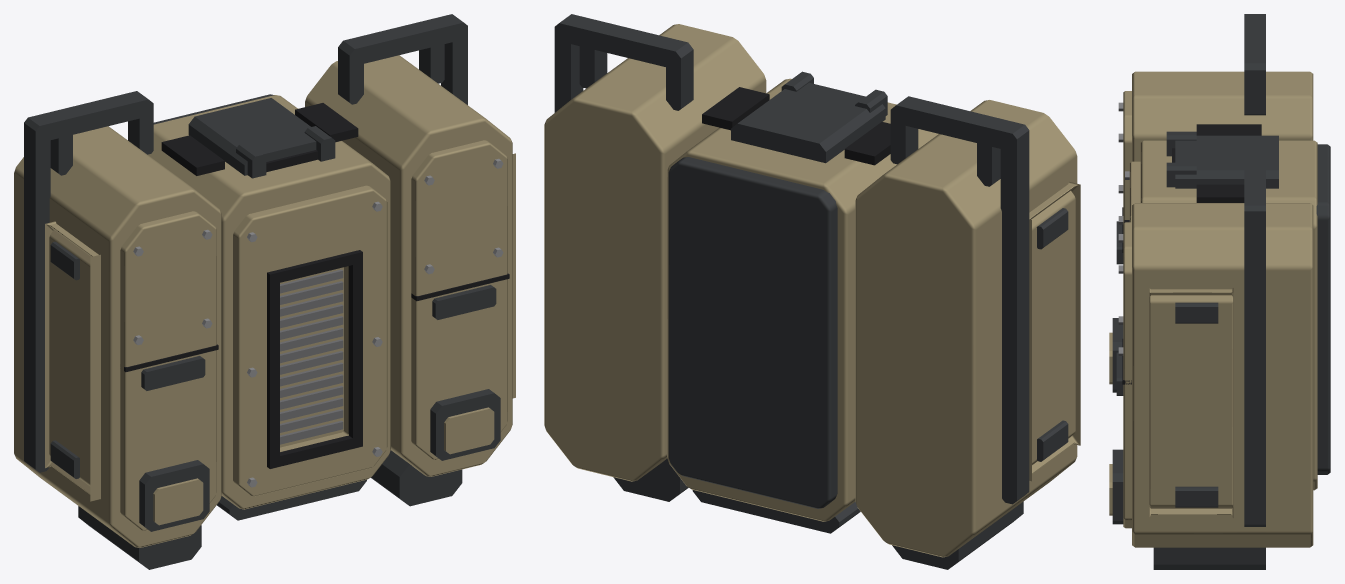
Rendered from backpack_field.glb.
The picture shows the model from 3 angles, left to right: view 1: azimuth 30°, elevation 25°; view 2: azimuth 150°, elevation 25°; view 3: azimuth 270°, elevation 25°; orthographic projection. The views are drawn at different scales.
Visible parts, largest first — view 1: BoxPanel, PodL, PodPanelL, PodPanelR, PodR, Box, SidePlateL, HandleSideL, Latch, HandleBarR, HandleBarL, FootR (+38 smaller); view 2: PodL, MountPlate, PodR, Box, SidePlateL, HandleSideL, Latch, HandleBarR, HandleBarL, HandleSideR, Skid, FootL (+9 smaller); view 3: PodR, SidePlateR, PodL, HandleSideR, Box, MountPlate, Latch, PodPanelR, FootR, HandleBarL, HandleBarR, PodPanelL (+11 smaller).
Part boxes in pixels (bbox=[...]): BoxPanel: bbox=[233, 185, 387, 496]; PodL: bbox=[14, 126, 221, 547]; PodPanelL: bbox=[120, 211, 216, 530]; PodPanelR: bbox=[411, 140, 507, 459]; PodR: bbox=[305, 55, 512, 476]; Box: bbox=[148, 95, 390, 509]; SidePlateL: bbox=[45, 221, 100, 501]; HandleSideL: bbox=[24, 116, 50, 472]; Latch: bbox=[188, 98, 316, 175]; HandleBarR: bbox=[338, 16, 461, 65]; HandleBarL: bbox=[35, 91, 153, 140]; FootR: bbox=[370, 450, 462, 506]; PodL: bbox=[855, 100, 1077, 557]; MountPlate: bbox=[668, 157, 837, 508]; PodR: bbox=[544, 24, 766, 481]; Box: bbox=[667, 78, 938, 521]; SidePlateL: bbox=[1029, 182, 1080, 481]; HandleSideL: bbox=[1000, 123, 1029, 504]; Latch: bbox=[731, 82, 885, 163]; HandleBarR: bbox=[561, 16, 693, 69]; HandleBarL: bbox=[890, 96, 1017, 149]; HandleSideR: bbox=[554, 14, 583, 112]; Skid: bbox=[692, 490, 860, 533]; FootL: bbox=[892, 501, 1023, 569]; PodR: bbox=[1132, 203, 1313, 547]; SidePlateR: bbox=[1149, 288, 1233, 518]; PodL: bbox=[1132, 71, 1313, 161]; HandleSideR: bbox=[1244, 202, 1265, 526]; Box: bbox=[1140, 140, 1317, 490]; MountPlate: bbox=[1316, 144, 1330, 474]; Latch: bbox=[1175, 135, 1278, 188]; PodPanelR: bbox=[1123, 222, 1131, 528]; FootR: bbox=[1153, 547, 1265, 569]; HandleBarL: bbox=[1244, 17, 1265, 76]; HandleBarR: bbox=[1244, 156, 1265, 202]; PodPanelL: bbox=[1123, 91, 1131, 223].
Bounding box in the file's own units: 2.14 × 2 × 1.03.
